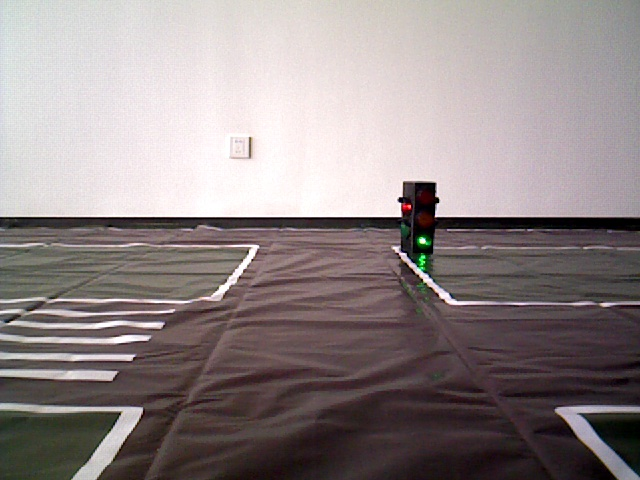green: (401, 181, 439, 251)
